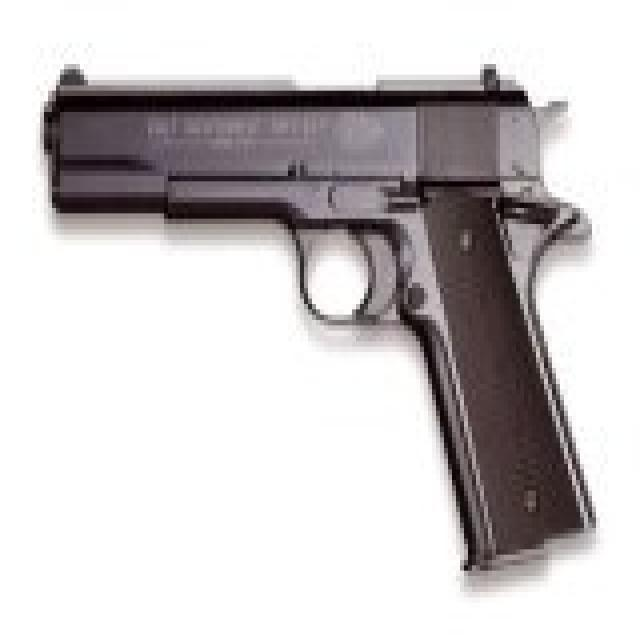Gun: (25, 27, 627, 599)
